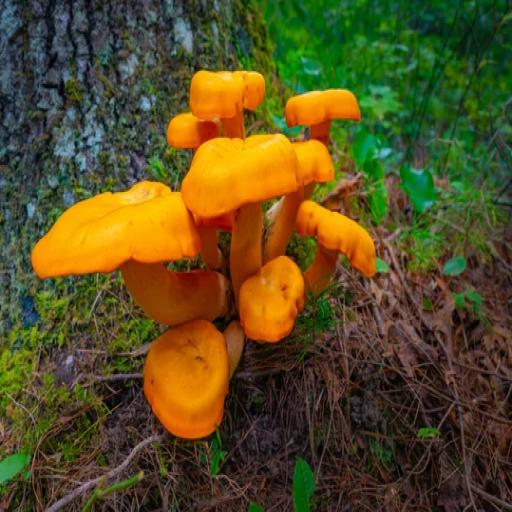Jack O Lantern Mushroom: (32, 177, 233, 325), (183, 131, 305, 306), (136, 320, 247, 440), (295, 191, 380, 309), (235, 256, 306, 353), (183, 65, 270, 136), (281, 84, 359, 149), (168, 102, 217, 154)
